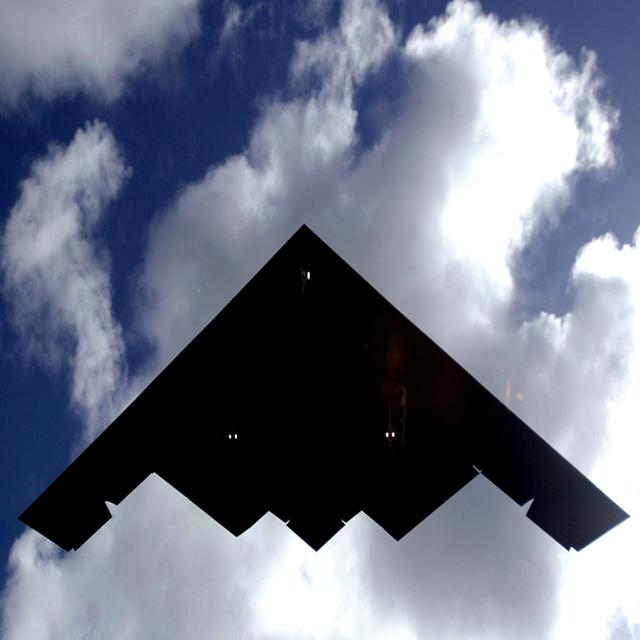MIL_Plane: (17, 223, 632, 553)
